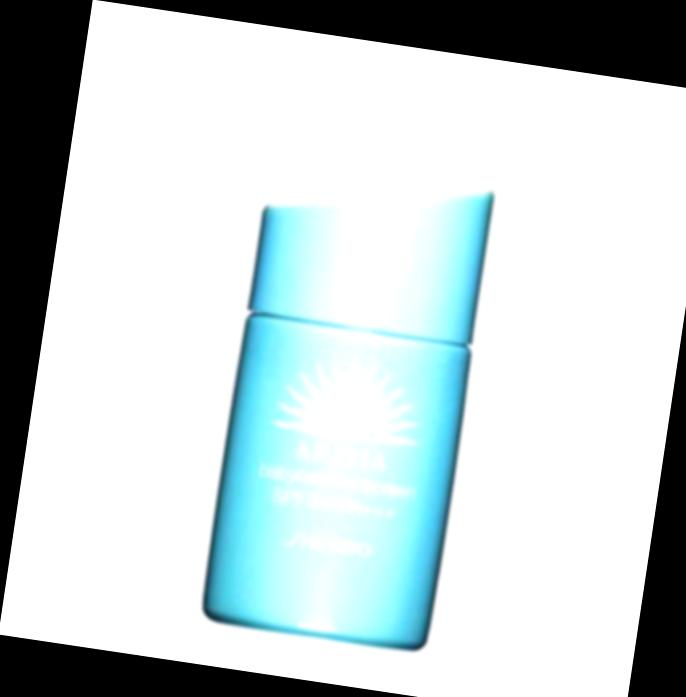cosmetic: (199, 153, 501, 655)
